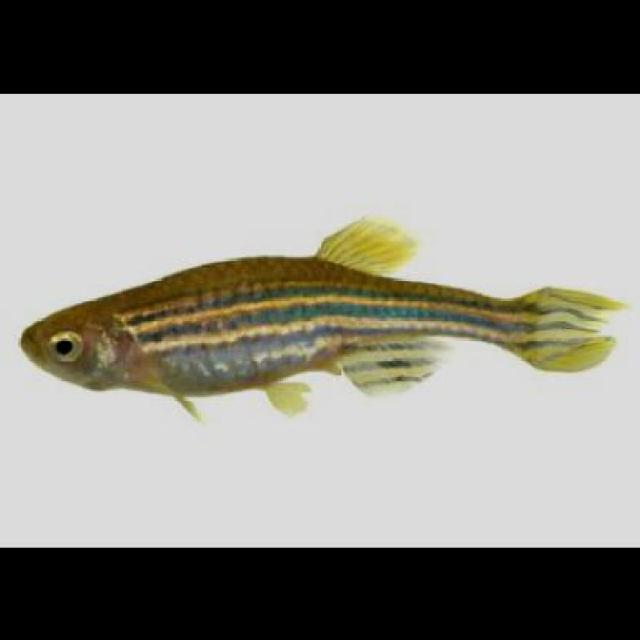ZebraFish: (27, 214, 613, 426)
